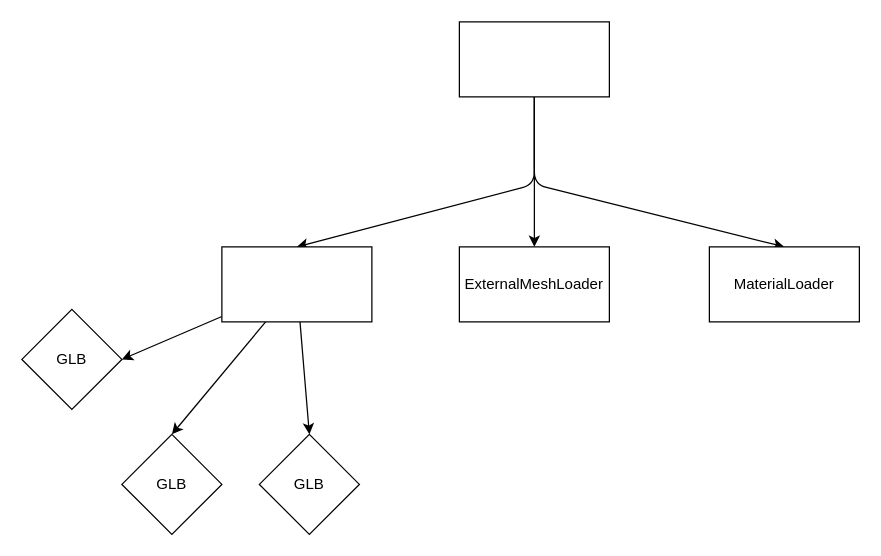
Some shapes in this 881 by 556 pixel diagram are drawn without their labels. The shapes that lost their labels are listed below. From the top down, each one's centre as x and y in pixels, then its label:
At point 533,59: "LoaderManager".
At point 296,284: "GLBLoader".
